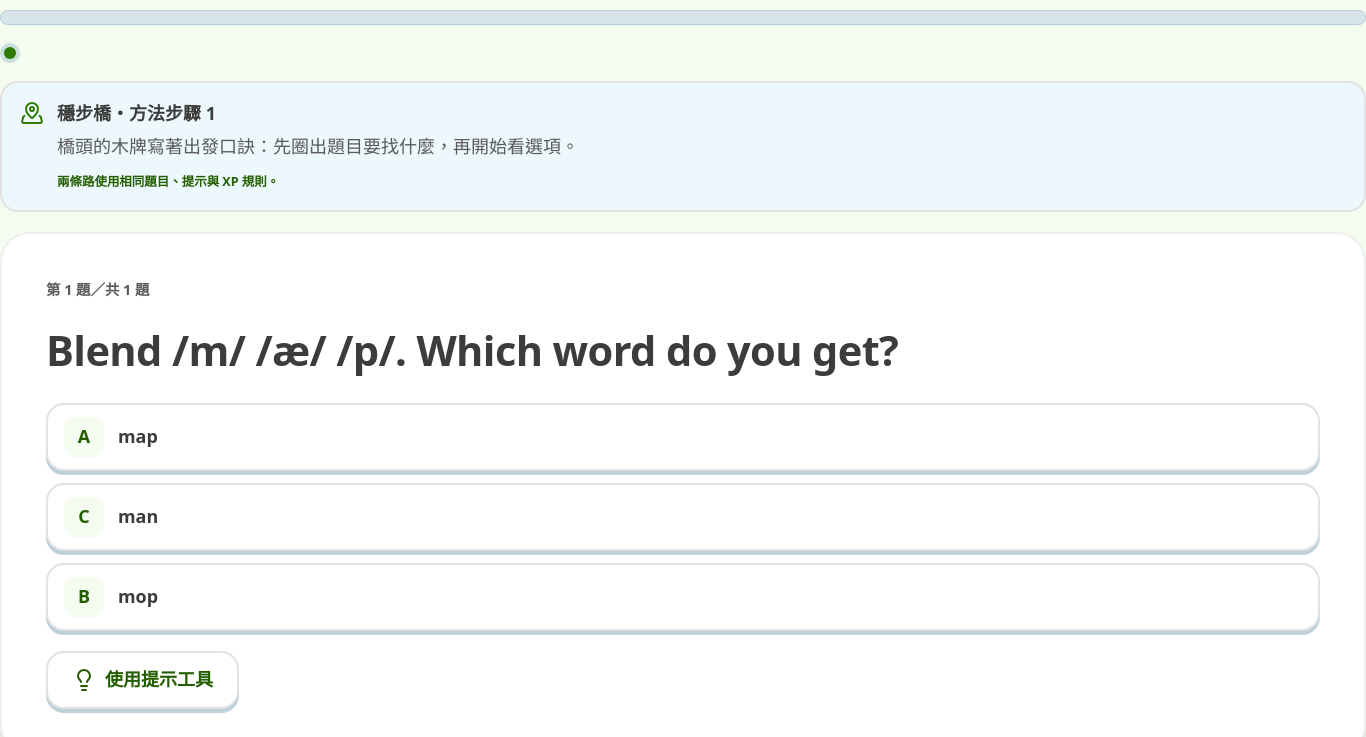
BattleSession › lets the learner switch among three substantively different hint scaffolds
The image size is (1366, 737).
(page scrolled)
Expected: the heading "Blend /m/ /æ/ /p/. Which word do you get?" is shown, [46, 322, 898, 378]
What coordinates should you click on to do the following:
click the button "使用提示工具"
I would click on:
 (142, 680)
Its box is [46, 651, 239, 709].
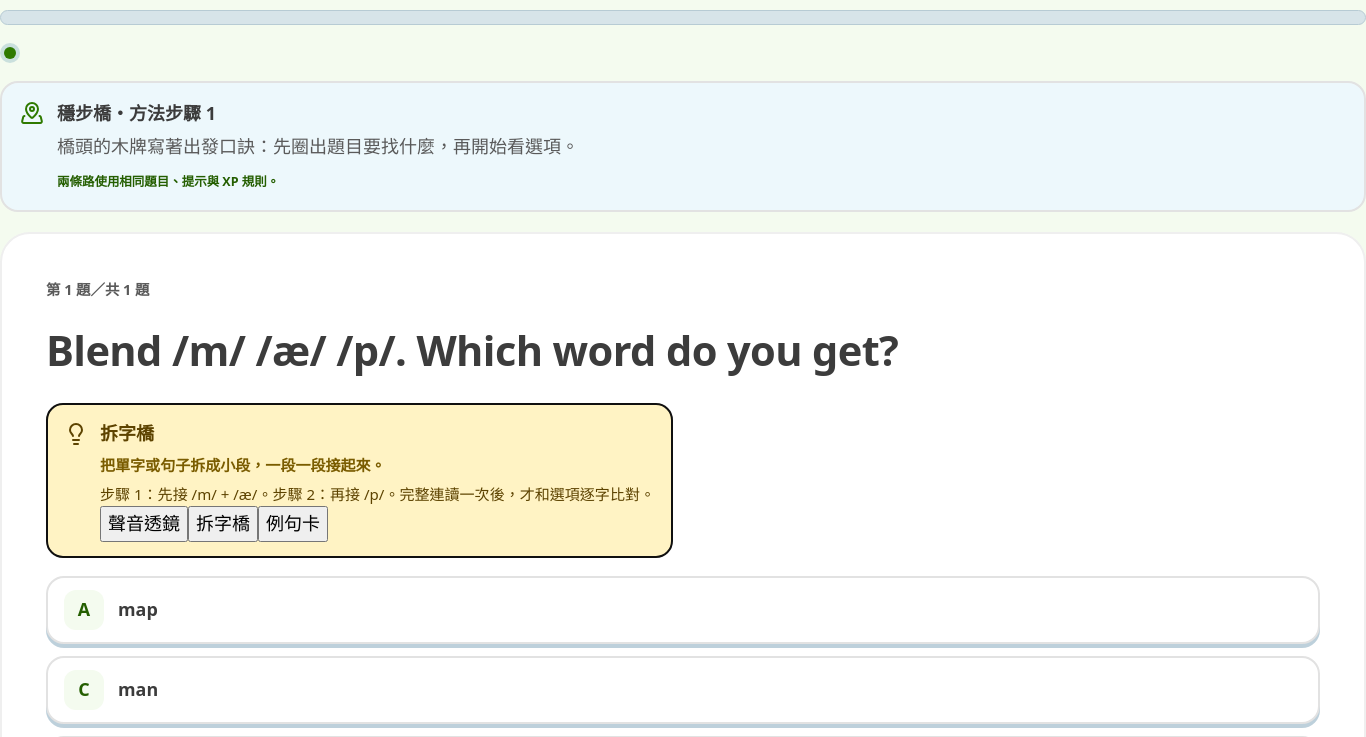
Expected: the message named "提示內容" shows "步驟 1：先接 /m/ + /æ/", [100, 484, 655, 504]
What coordinates should you click on to do the following:
click the button with aria-label "切換為聲音透鏡"
I would click on:
 (144, 524)
Its box is [100, 506, 188, 542].
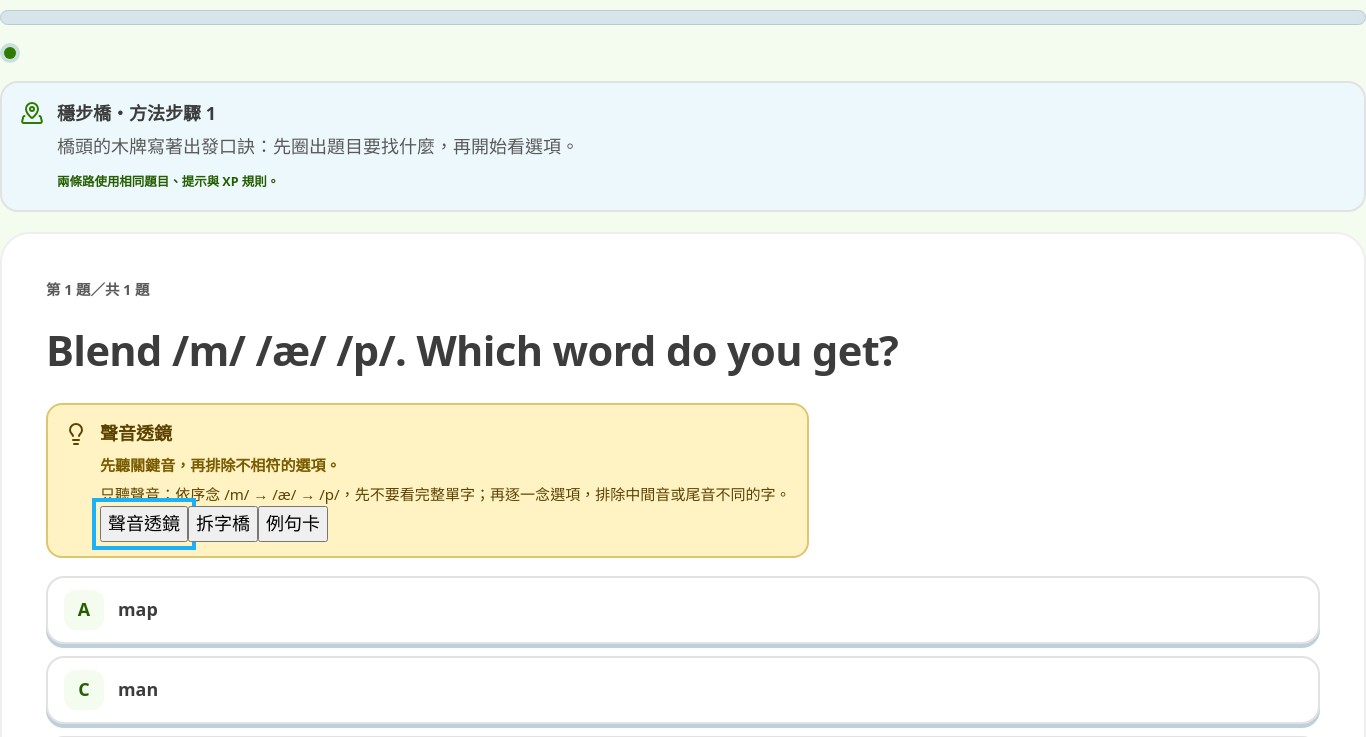
Expected: the message named "提示內容" shows "只聽聲音：依序念 /m/ → /æ/ → /p/，先不要看完整單字；再逐一念選項，排除中間音或尾音不同的字。", [100, 484, 791, 504]
Expected: the message named "提示內容" no longer shows "步驟 1：先接 /m/ + /æ/", [46, 403, 809, 558]
What coordinates should you click on to do the following:
click the button with aria-label "切換為例句卡"
I would click on:
 (293, 524)
Its box is [258, 506, 328, 542].
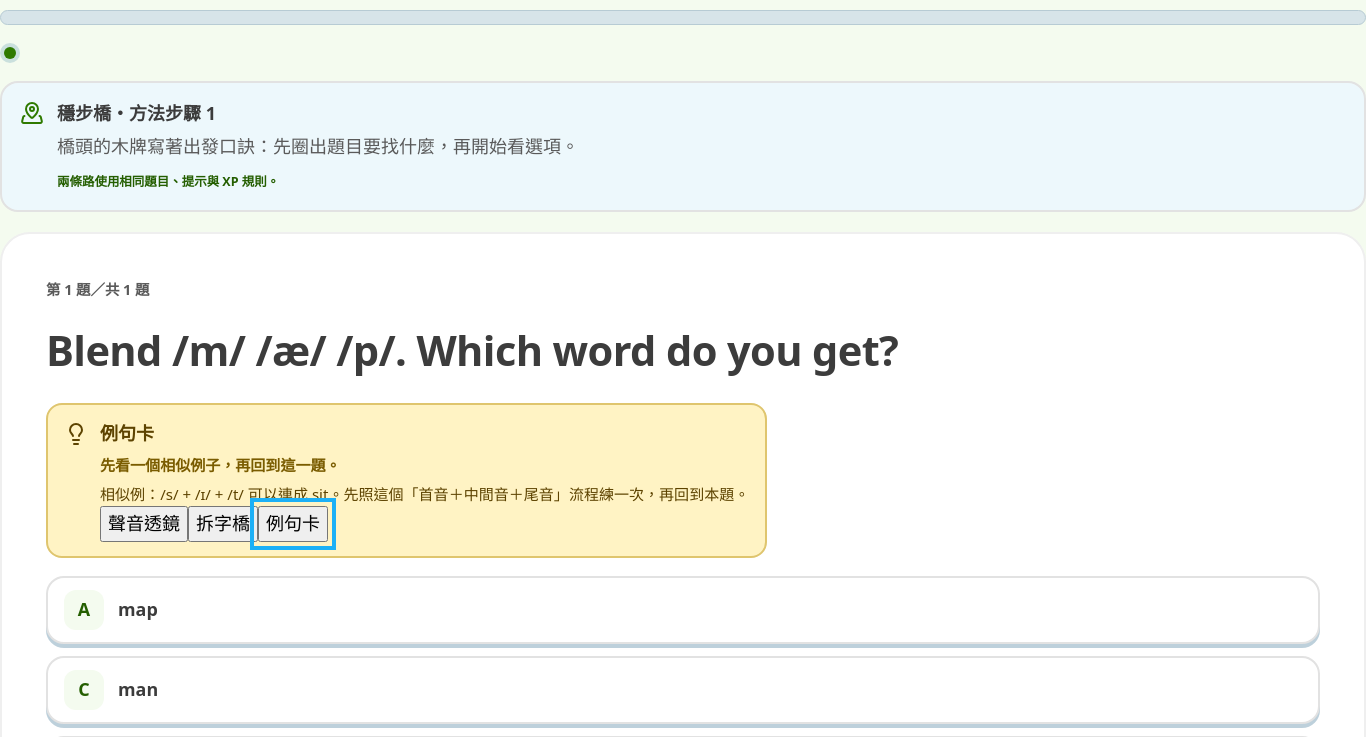
Expected: the message named "提示內容" shows "相似例：/s/ + /ɪ/ + /t/ 可以連成 sit。先照這個「首音＋中間音＋尾音」流程練一次，再回到本題。", [100, 484, 749, 504]
